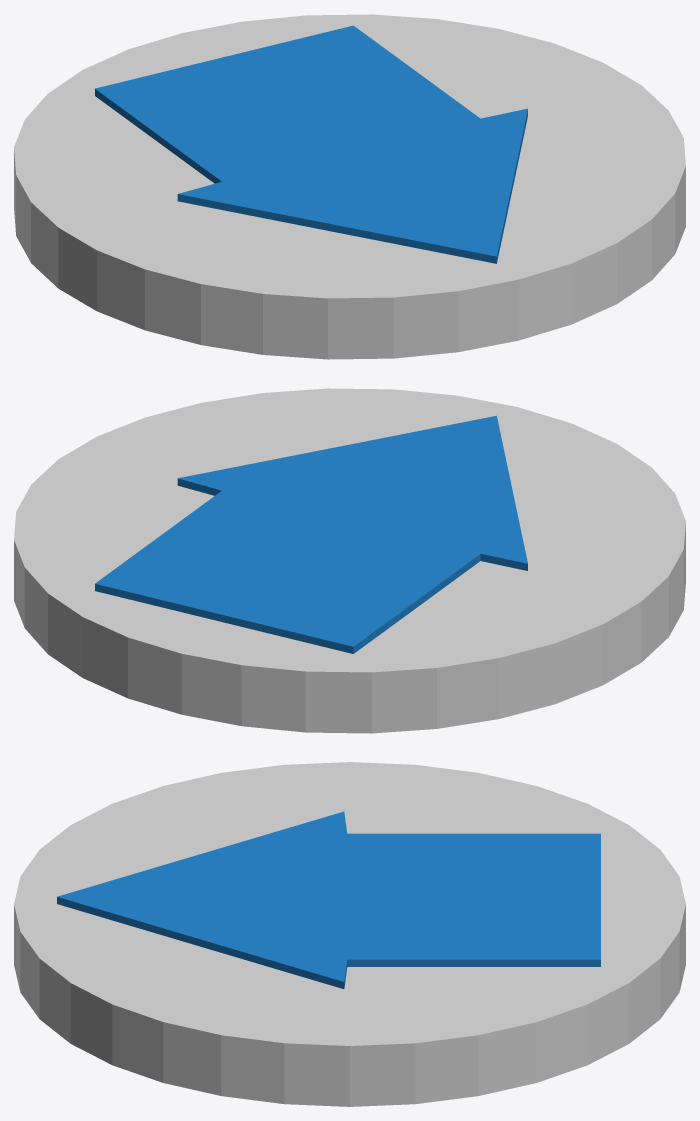
Rendered from windIndicator.fbx.
3 renders of one model, top to bottom at view 1: azimuth 30°, elevation 25°; view 2: azimuth 150°, elevation 25°; view 3: azimuth 270°, elevation 25°, orthographic.
Parts seen in each view (by area): view 1: WindIndicator; view 2: WindIndicator; view 3: WindIndicator.
Boxes of the visible parts, left/top/right/bottom form: WindIndicator: left=14, top=14, right=685, bottom=359; WindIndicator: left=14, top=388, right=685, bottom=733; WindIndicator: left=14, top=762, right=685, bottom=1106.
Size of the model in its own units: 200 by 24.79 by 200.
